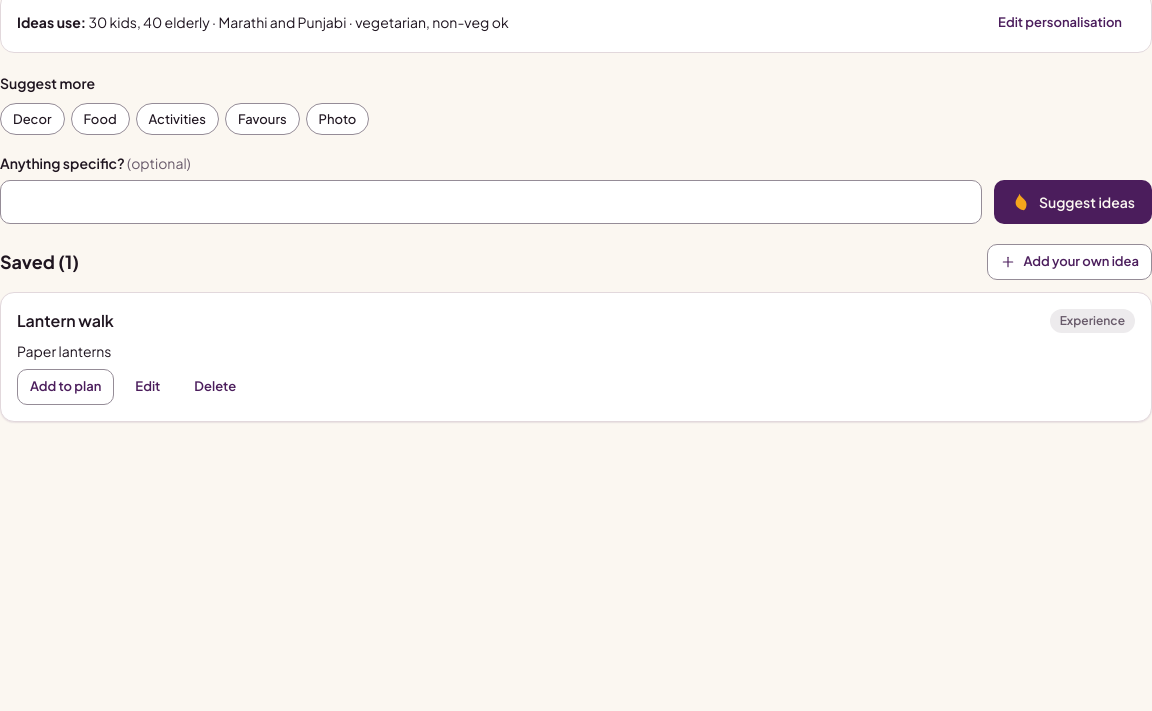
Test case: Ideas tab › an idea edit that fails keeps the form with the fallback message; Cancel closes it
This screenshot has width=1152, height=711.
Click the button with aria-label "Edit: Lantern walk" at (148, 387), box [122,369,173,405]
(page scrolled)
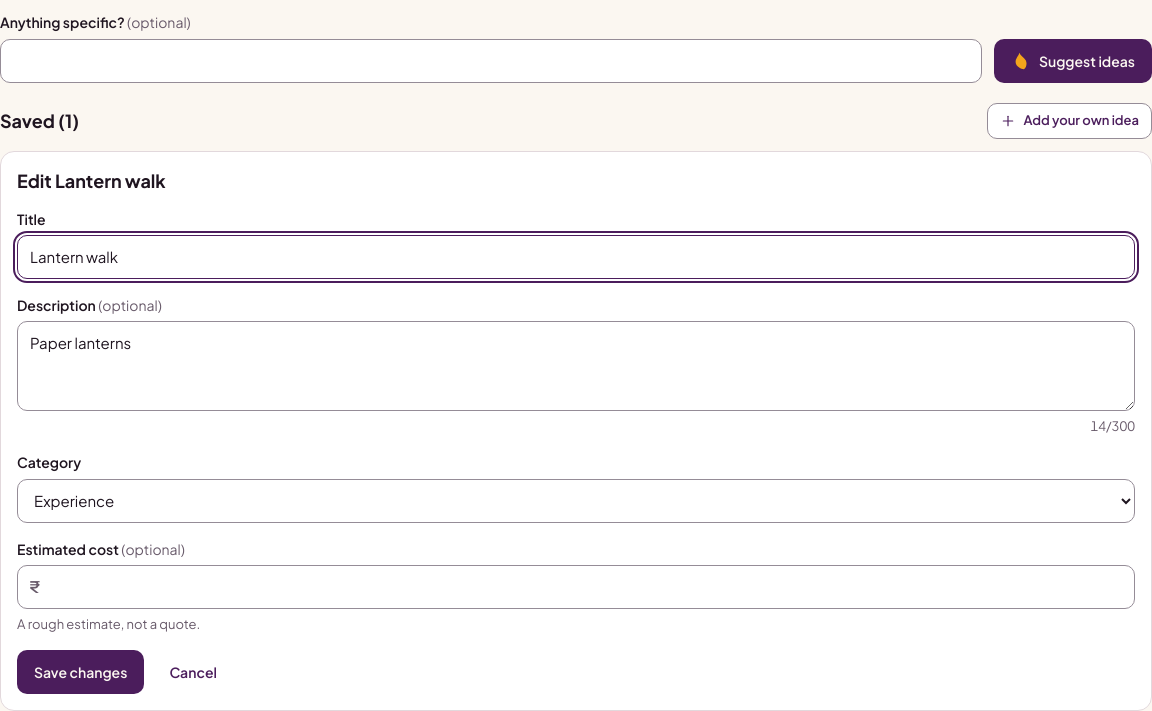
Expected: the heading "Edit Lantern walk" is shown, [17,169,166,192]
Click the button "Save changes" at (81, 672), box [17,650,144,694]
(page scrolled)
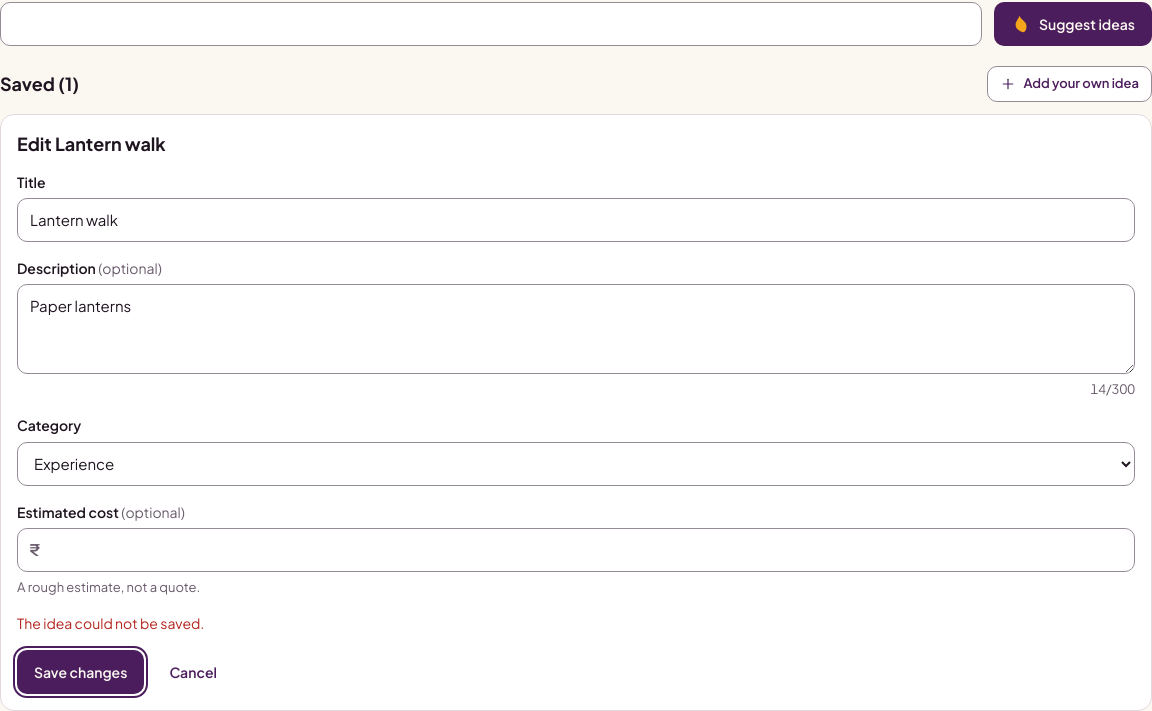
Expected: the text "The idea could not be saved." is shown, [17,614,204,632]
Click the button "Cancel" at (193, 672), box [152,650,234,694]
(page scrolled)
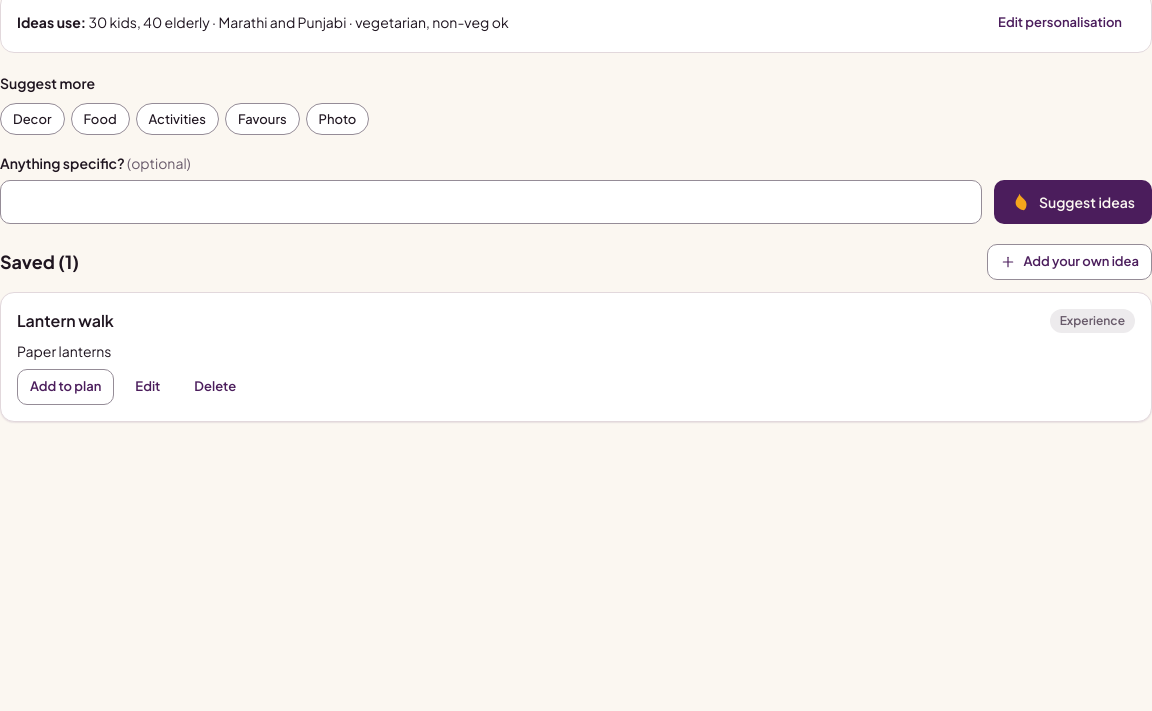
Expected: the heading "Edit Lantern walk" is gone
